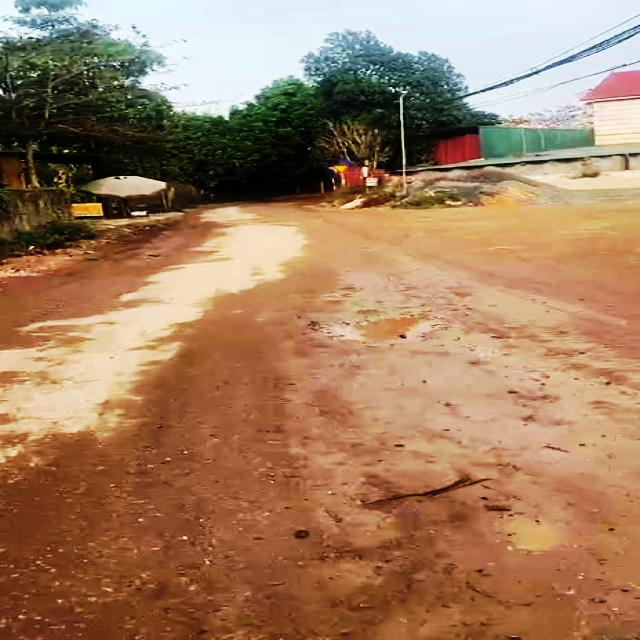pothole: (305, 308, 445, 346)
